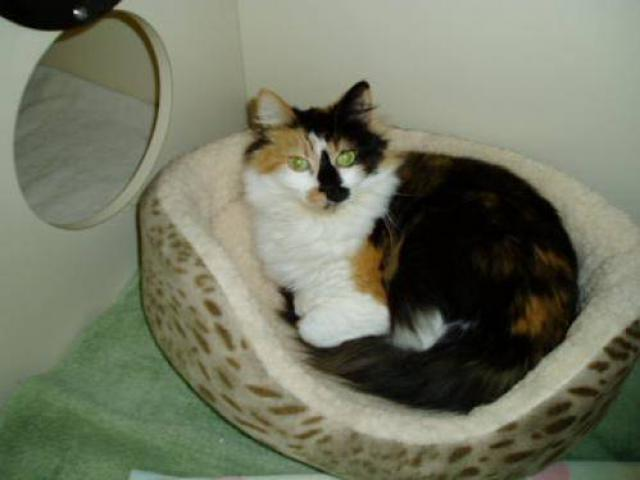cat: (226, 72, 591, 408)
